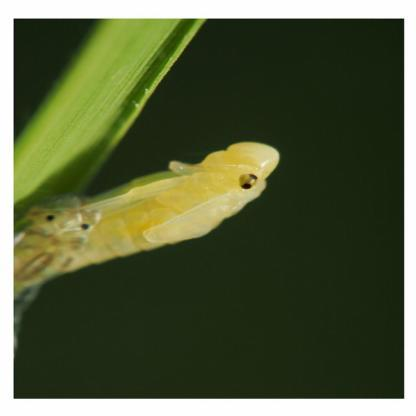green-leafhopper: (15, 139, 284, 274)
